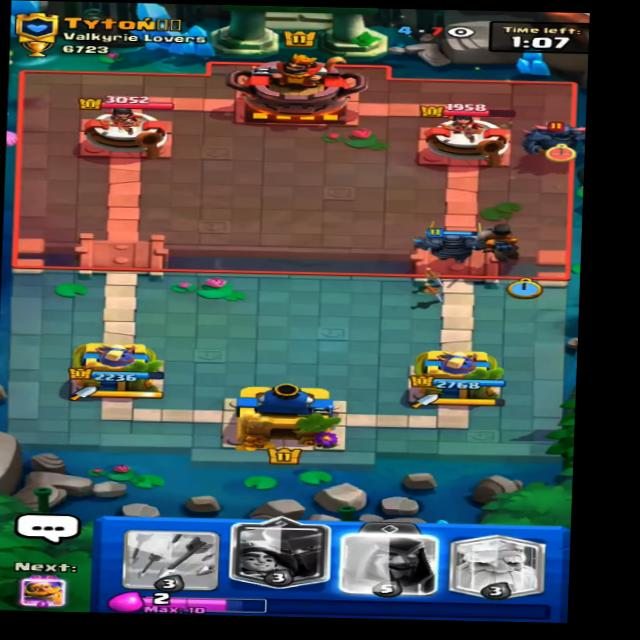Pekka: (509, 115, 595, 158)
